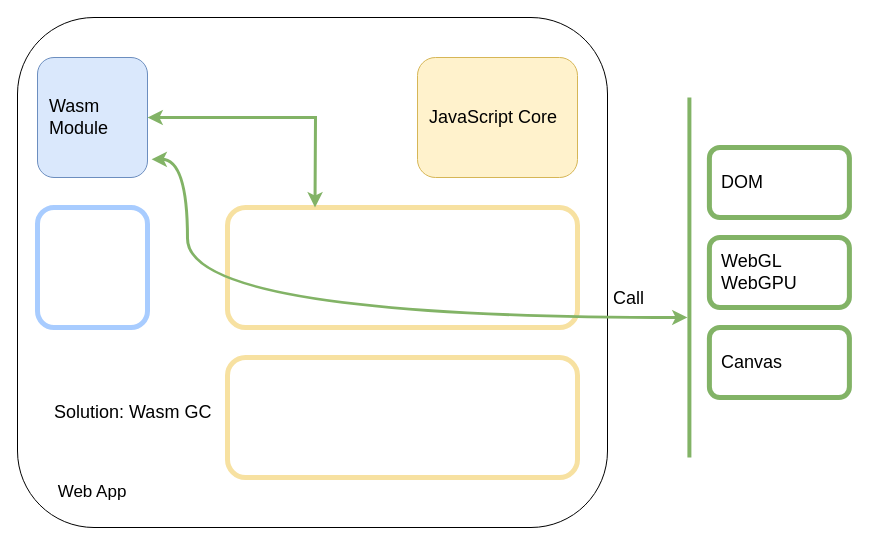
Image size: 869x545. Some labels were removed from this diagram. Here are the shapes that lost their labels. From the top down, the centre of each, then its label:
(92,267): Linear Memory
(402,267): JavaScript & WebAssembly GC Heap
(402,417): Garbage Collector
